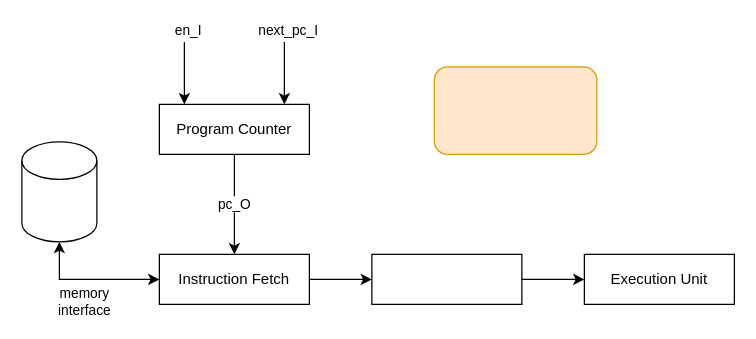
Image size: 756x339. Some labels were removed from this diagram. Here are the shapes that lost their labels. From the top down, the centre of each, then its label:
At point 515,110: "TBD".
At point 446,278: "Instruction Decoder".
